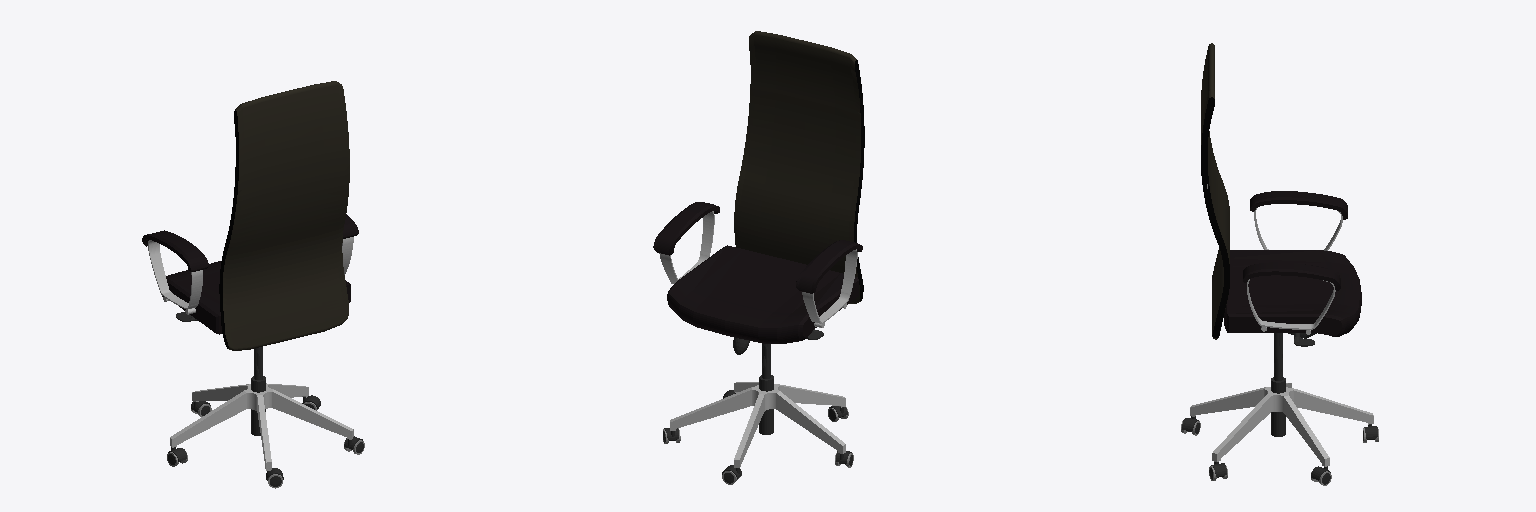
3 views of the same model, side by side, from view 1: azimuth 30°, elevation 25°; view 2: azimuth 150°, elevation 25°; view 3: azimuth 270°, elevation 25° (orthographic).
Visible parts, largest first — view 1: Mesh1 Group1 Model, Mesh3 Group3 Model, Mesh6 Group6 Model, Mesh12 Group10 Armrest2 Model, Mesh13 Group11 Armrest2 Model, Mesh2 Group2 Model; view 2: Mesh1 Group1 Model, Mesh6 Group6 Model, Mesh3 Group3 Model, Mesh13 Group11 Armrest2 Model, Mesh9 Group9 Armrest1 Model, Mesh12 Group10 Armrest2 Model, Mesh8 Group8 Armrest1 Model, Mesh2 Group2 Model; view 3: Mesh6 Group6 Model, Mesh3 Group3 Model, Mesh1 Group1 Model, Mesh13 Group11 Armrest2 Model, Mesh9 Group9 Armrest1 Model, Mesh2 Group2 Model, Mesh8 Group8 Armrest1 Model.
Boxes of the visible parts, x1,y1,x2,y2 form: Mesh1 Group1 Model: [219, 81, 349, 350]; Mesh3 Group3 Model: [170, 383, 353, 470]; Mesh6 Group6 Model: [162, 261, 350, 334]; Mesh12 Group10 Armrest2 Model: [148, 240, 202, 309]; Mesh13 Group11 Armrest2 Model: [142, 230, 208, 271]; Mesh2 Group2 Model: [251, 347, 265, 435]; Mesh1 Group1 Model: [734, 31, 864, 303]; Mesh6 Group6 Model: [667, 245, 858, 343]; Mesh3 Group3 Model: [670, 382, 845, 467]; Mesh13 Group11 Armrest2 Model: [796, 240, 862, 293]; Mesh9 Group9 Armrest1 Model: [653, 202, 719, 255]; Mesh12 Group10 Armrest2 Model: [802, 249, 857, 323]; Mesh8 Group8 Armrest1 Model: [659, 211, 714, 283]; Mesh2 Group2 Model: [759, 343, 773, 434]; Mesh6 Group6 Model: [1224, 250, 1361, 336]; Mesh3 Group3 Model: [1190, 383, 1373, 466]; Mesh1 Group1 Model: [1201, 43, 1229, 339]; Mesh13 Group11 Armrest2 Model: [1250, 191, 1347, 219]; Mesh9 Group9 Armrest1 Model: [1243, 262, 1340, 290]; Mesh2 Group2 Model: [1271, 333, 1285, 436]; Mesh8 Group8 Armrest1 Model: [1247, 279, 1335, 329].
Size of the model in its own units: 0.4457 by 0.9542 by 0.4498.